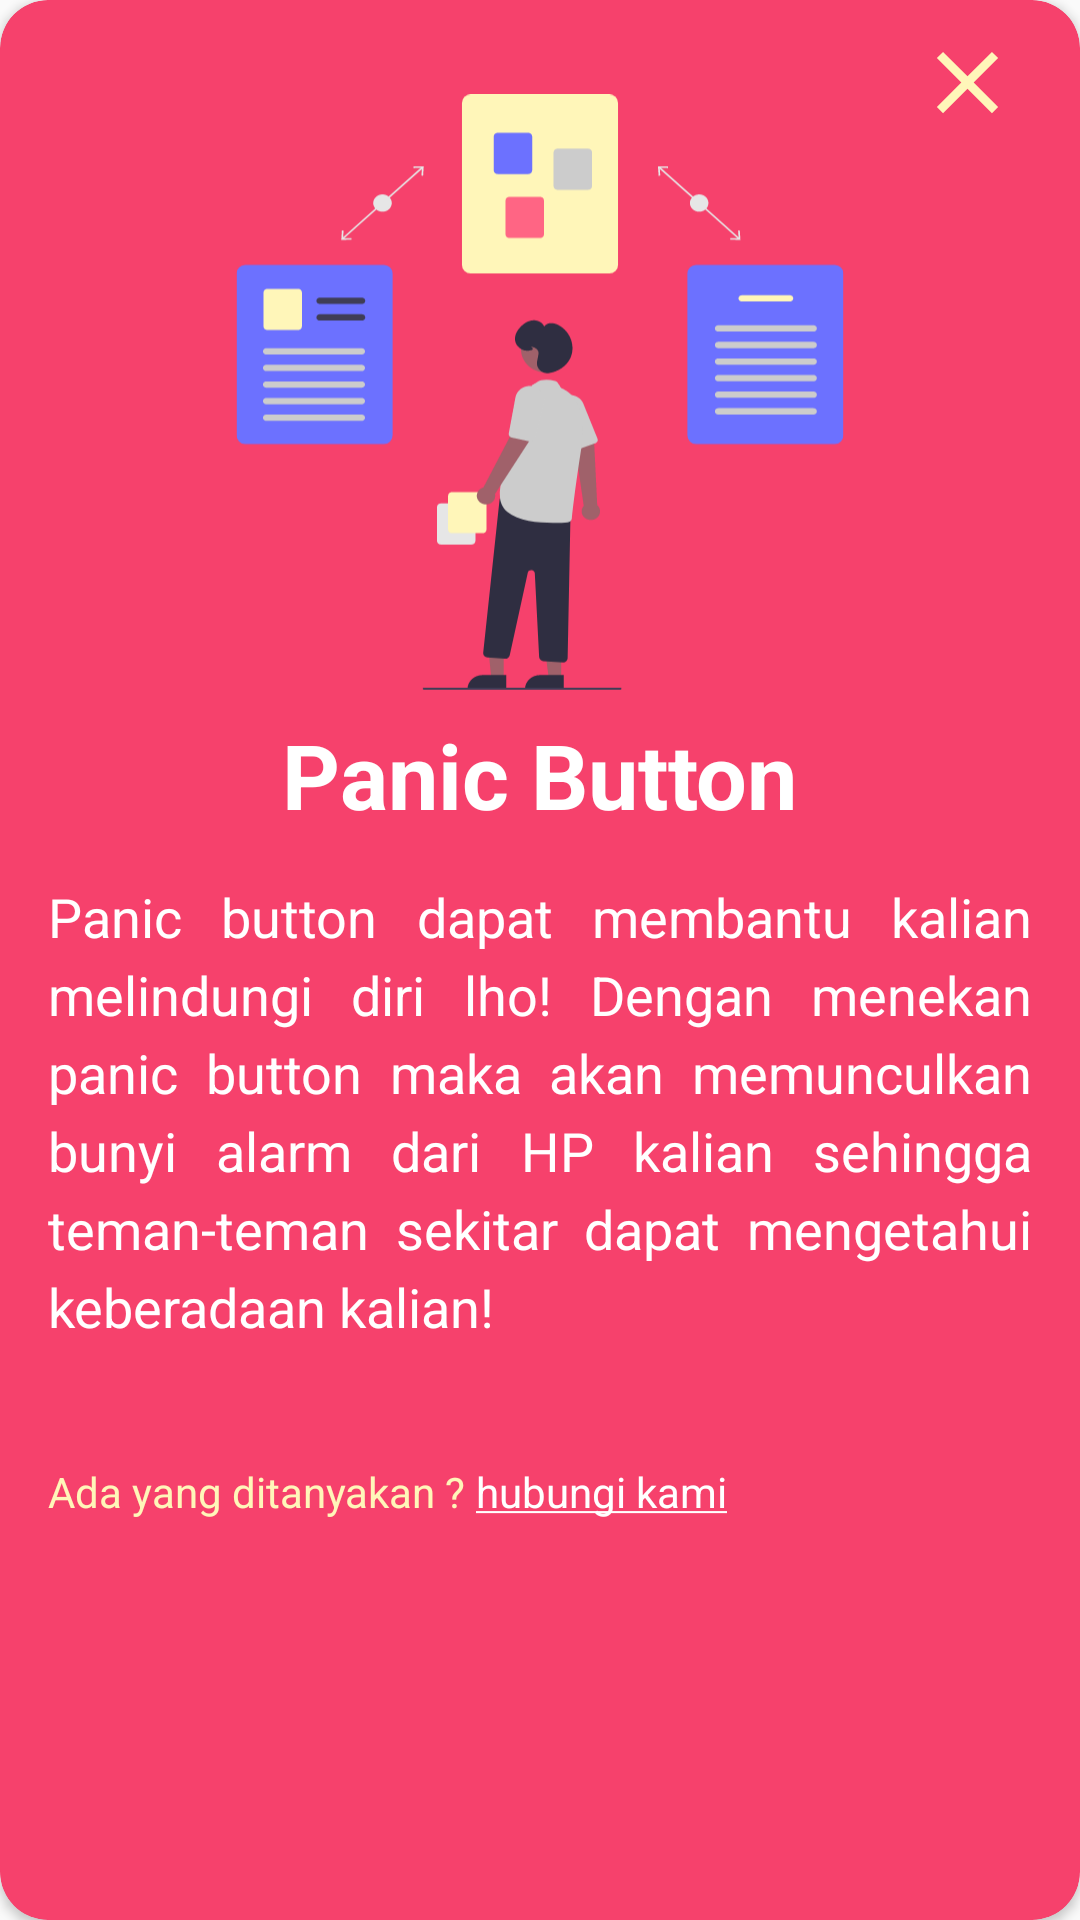

Named icons in this screenshot (1080 x 1920) and their bounding boxes, bbox=[x1, y1, x2, y2]:
close: bbox=[937, 52, 998, 113]
